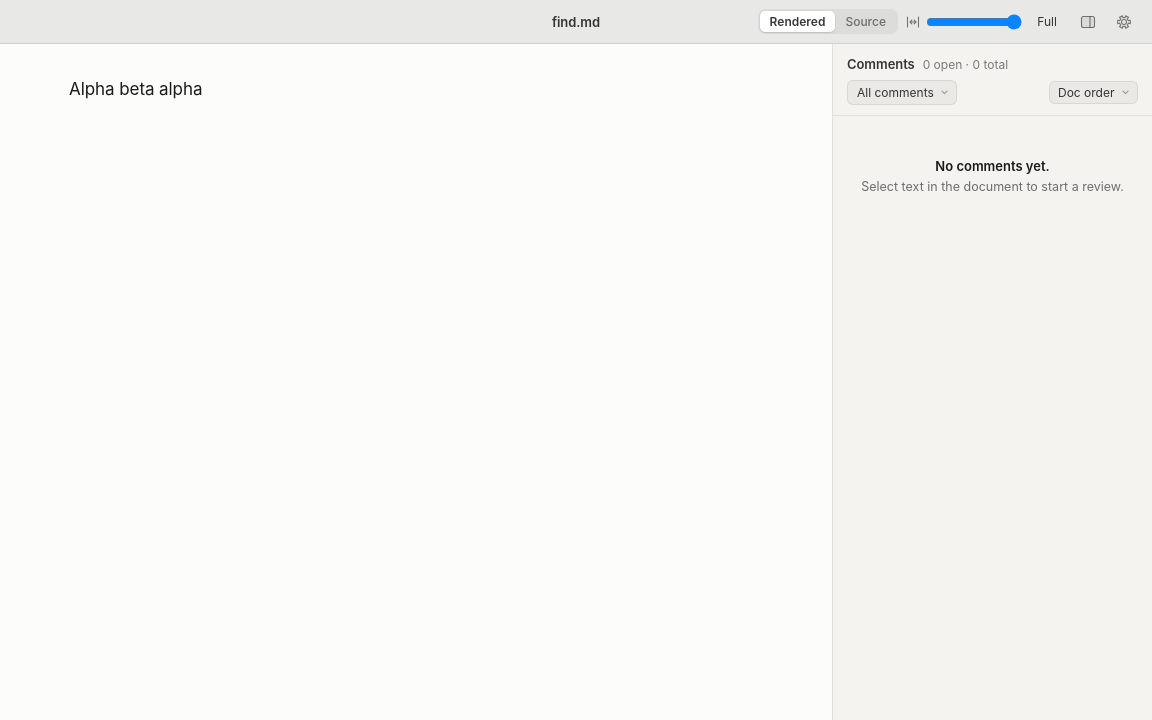
Test: Find/Replace › Cmd+F opens the bar and finds document text
The width and height of the screenshot is (1152, 720).
Press f
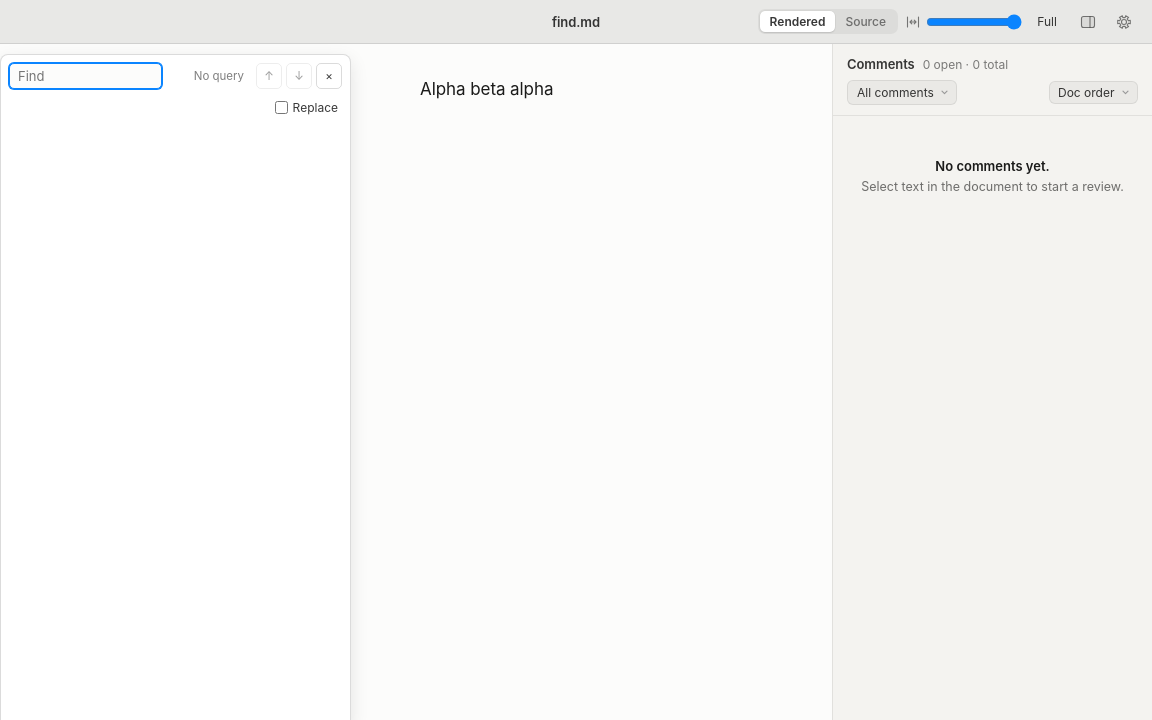
Check: the element with test id "fm-findbar" is shown, box [0,54,351,719]
Check: the checkbox with test id "fm-findbar-toggle-replace" is not checked, box [275,100,288,114]
Type "alpha" into the field with test id "fm-findbar-query". click: {"x": 86, "y": 76}
box: [9,63,162,89]
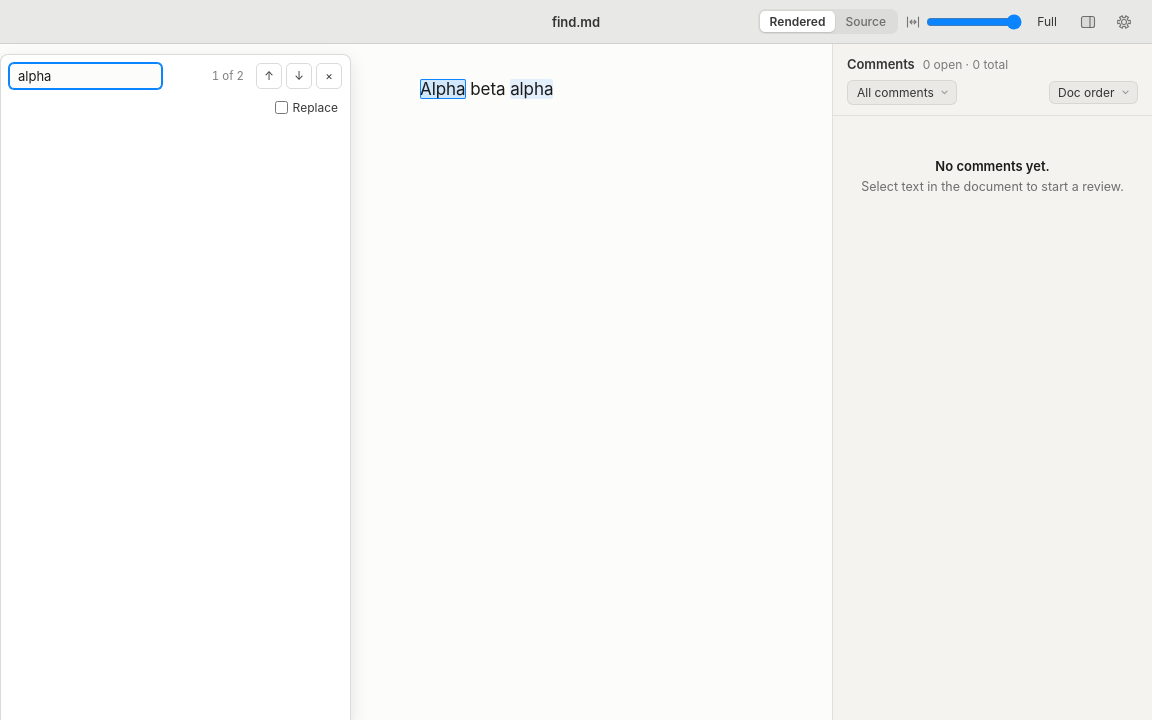
Check: the text box with class "fm-search-match" showing "Alpha" is shown, box [420,79,466,99]
Check: the text with test id "fm-findbar-count" reads "1 of 2", box [212,69,244,83]
Check: the number of text boxes with class "fm-search-match" is 2, box [420,79,466,99]; [510,79,553,99]
